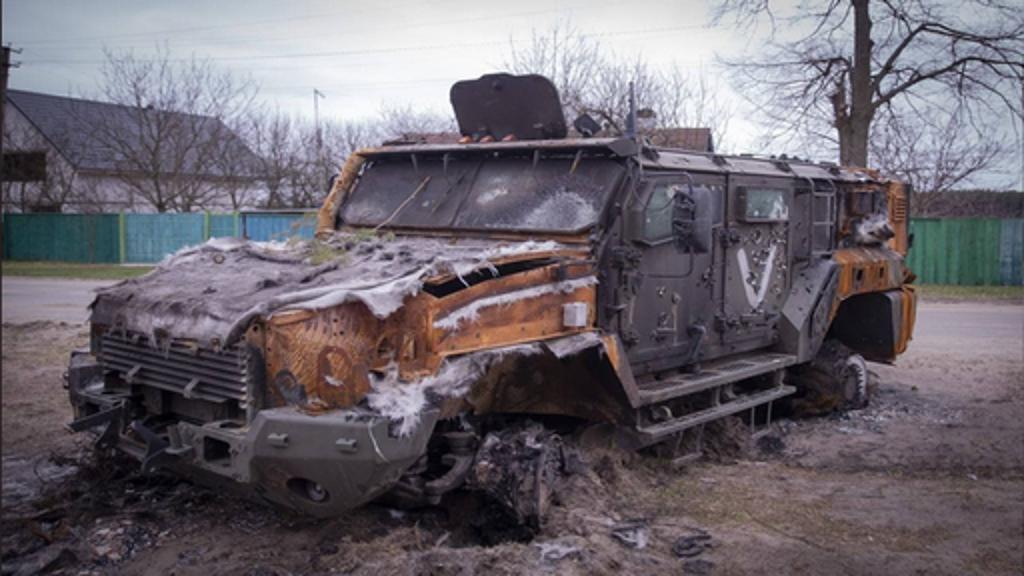CAR: (62, 100, 922, 552)
